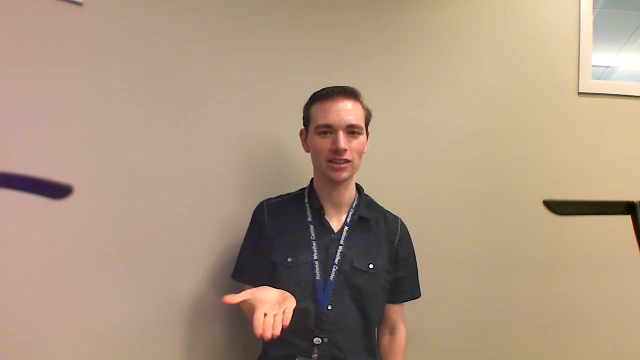land: (215, 283, 301, 342)
